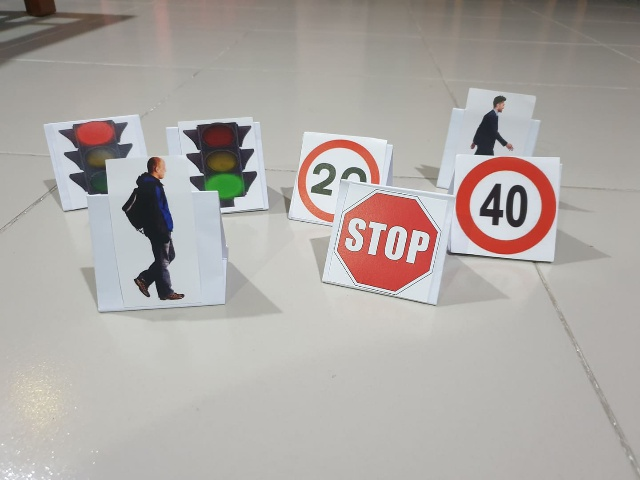Green: (183, 123, 254, 210)
Limit 20: (302, 141, 374, 206)
Limit 40: (455, 163, 555, 255)
Person: (119, 155, 190, 304), (466, 90, 520, 155)
Red: (67, 124, 131, 191)
Stop: (342, 188, 438, 296)
